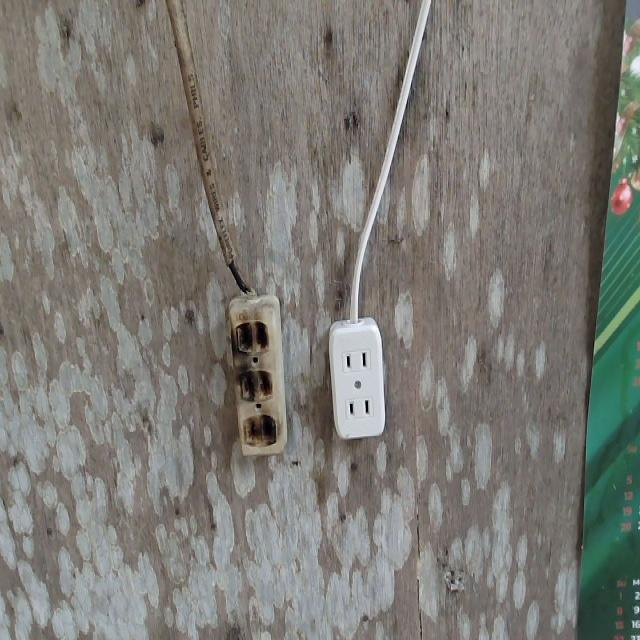-: (231, 317, 276, 452)
